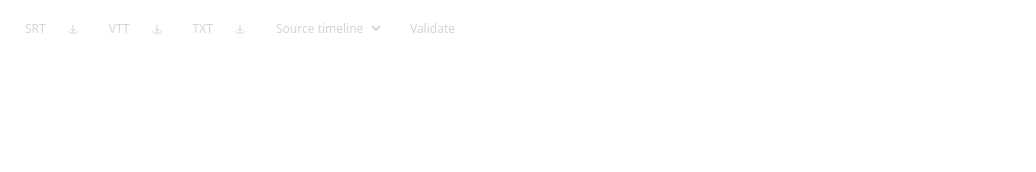
Test case: SubtitleExport › should show success message when no validation errors
This screenshot has width=1036, height=172.
Click the button "Validate" at (432, 28), box [397,14,468,44]
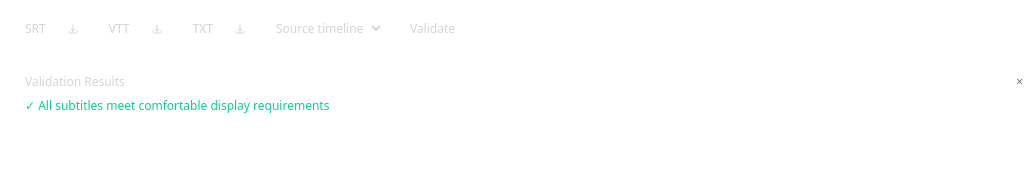
expect the text "Validation Results" is shown: met, box [25,74,125,90]
expect the text "All subtitles meet comfortable display requirements" is shown: met, box [25,97,329,114]
